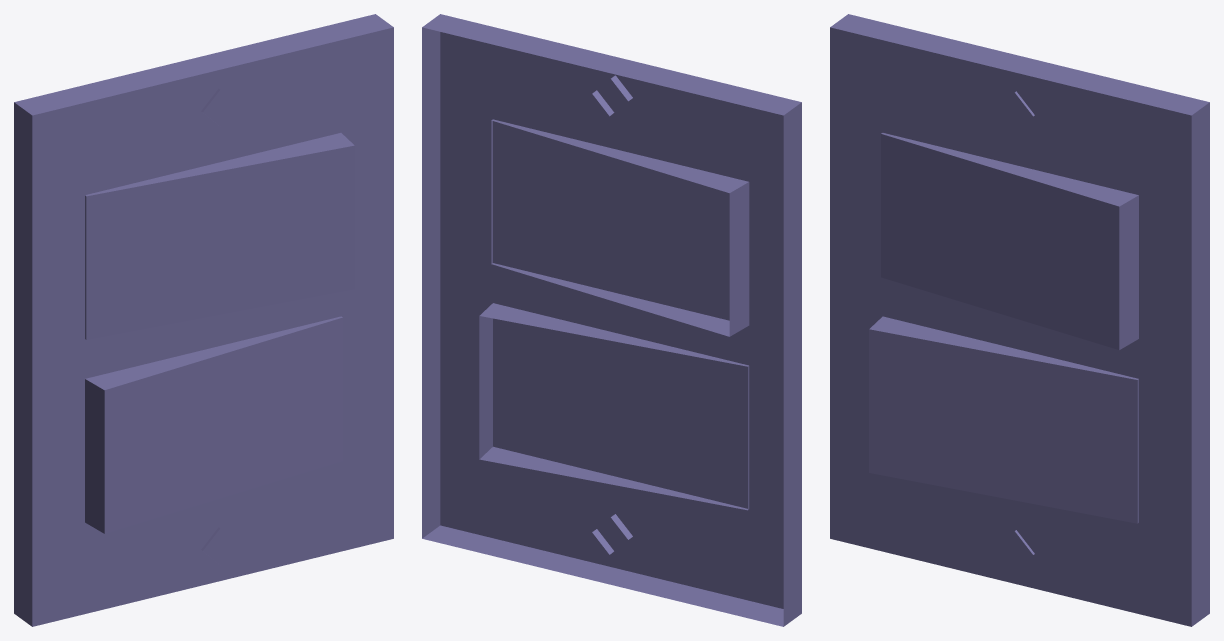
File: InterruptorLuz.fbx
3 renders of one model, left to right at view 1: azimuth 30°, elevation 25°; view 2: azimuth 150°, elevation 25°; view 3: azimuth 330°, elevation 25°, orthographic.
Visible parts, largest first — view 1: InterruptorLuz01; view 2: InterruptorLuz01; view 3: InterruptorLuz01.
Part boxes in pixels (x1=…): InterruptorLuz01: x1=14, y1=14, x2=393, y2=626; InterruptorLuz01: x1=422, y1=14, x2=801, y2=626; InterruptorLuz01: x1=830, y1=14, x2=1209, y2=626.
Bounding box in the file's own units: 0.1336 × 0.1806 × 0.0223.
